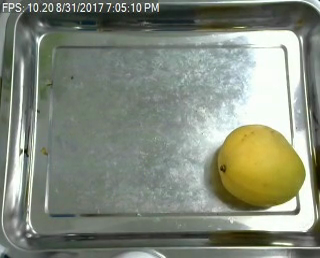Mango: (218, 123, 304, 208)
